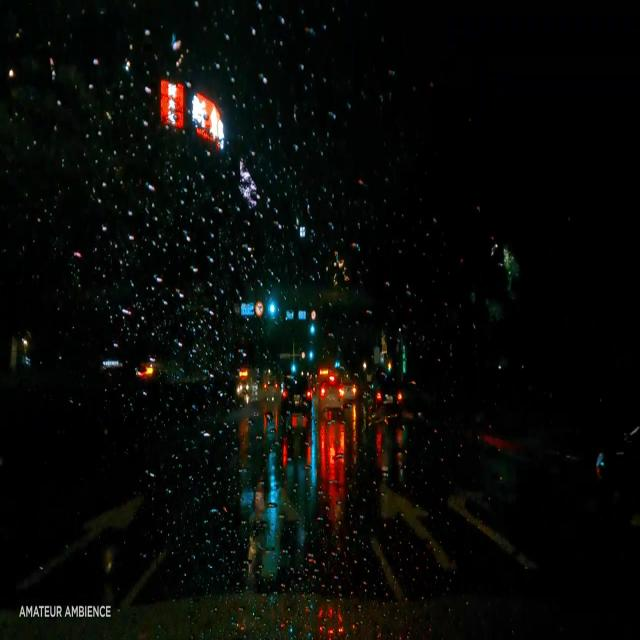Car: (365, 371, 400, 416), (278, 377, 311, 414), (317, 375, 340, 410)
